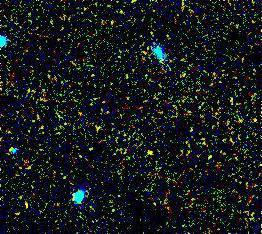star: (134, 135, 164, 165)
